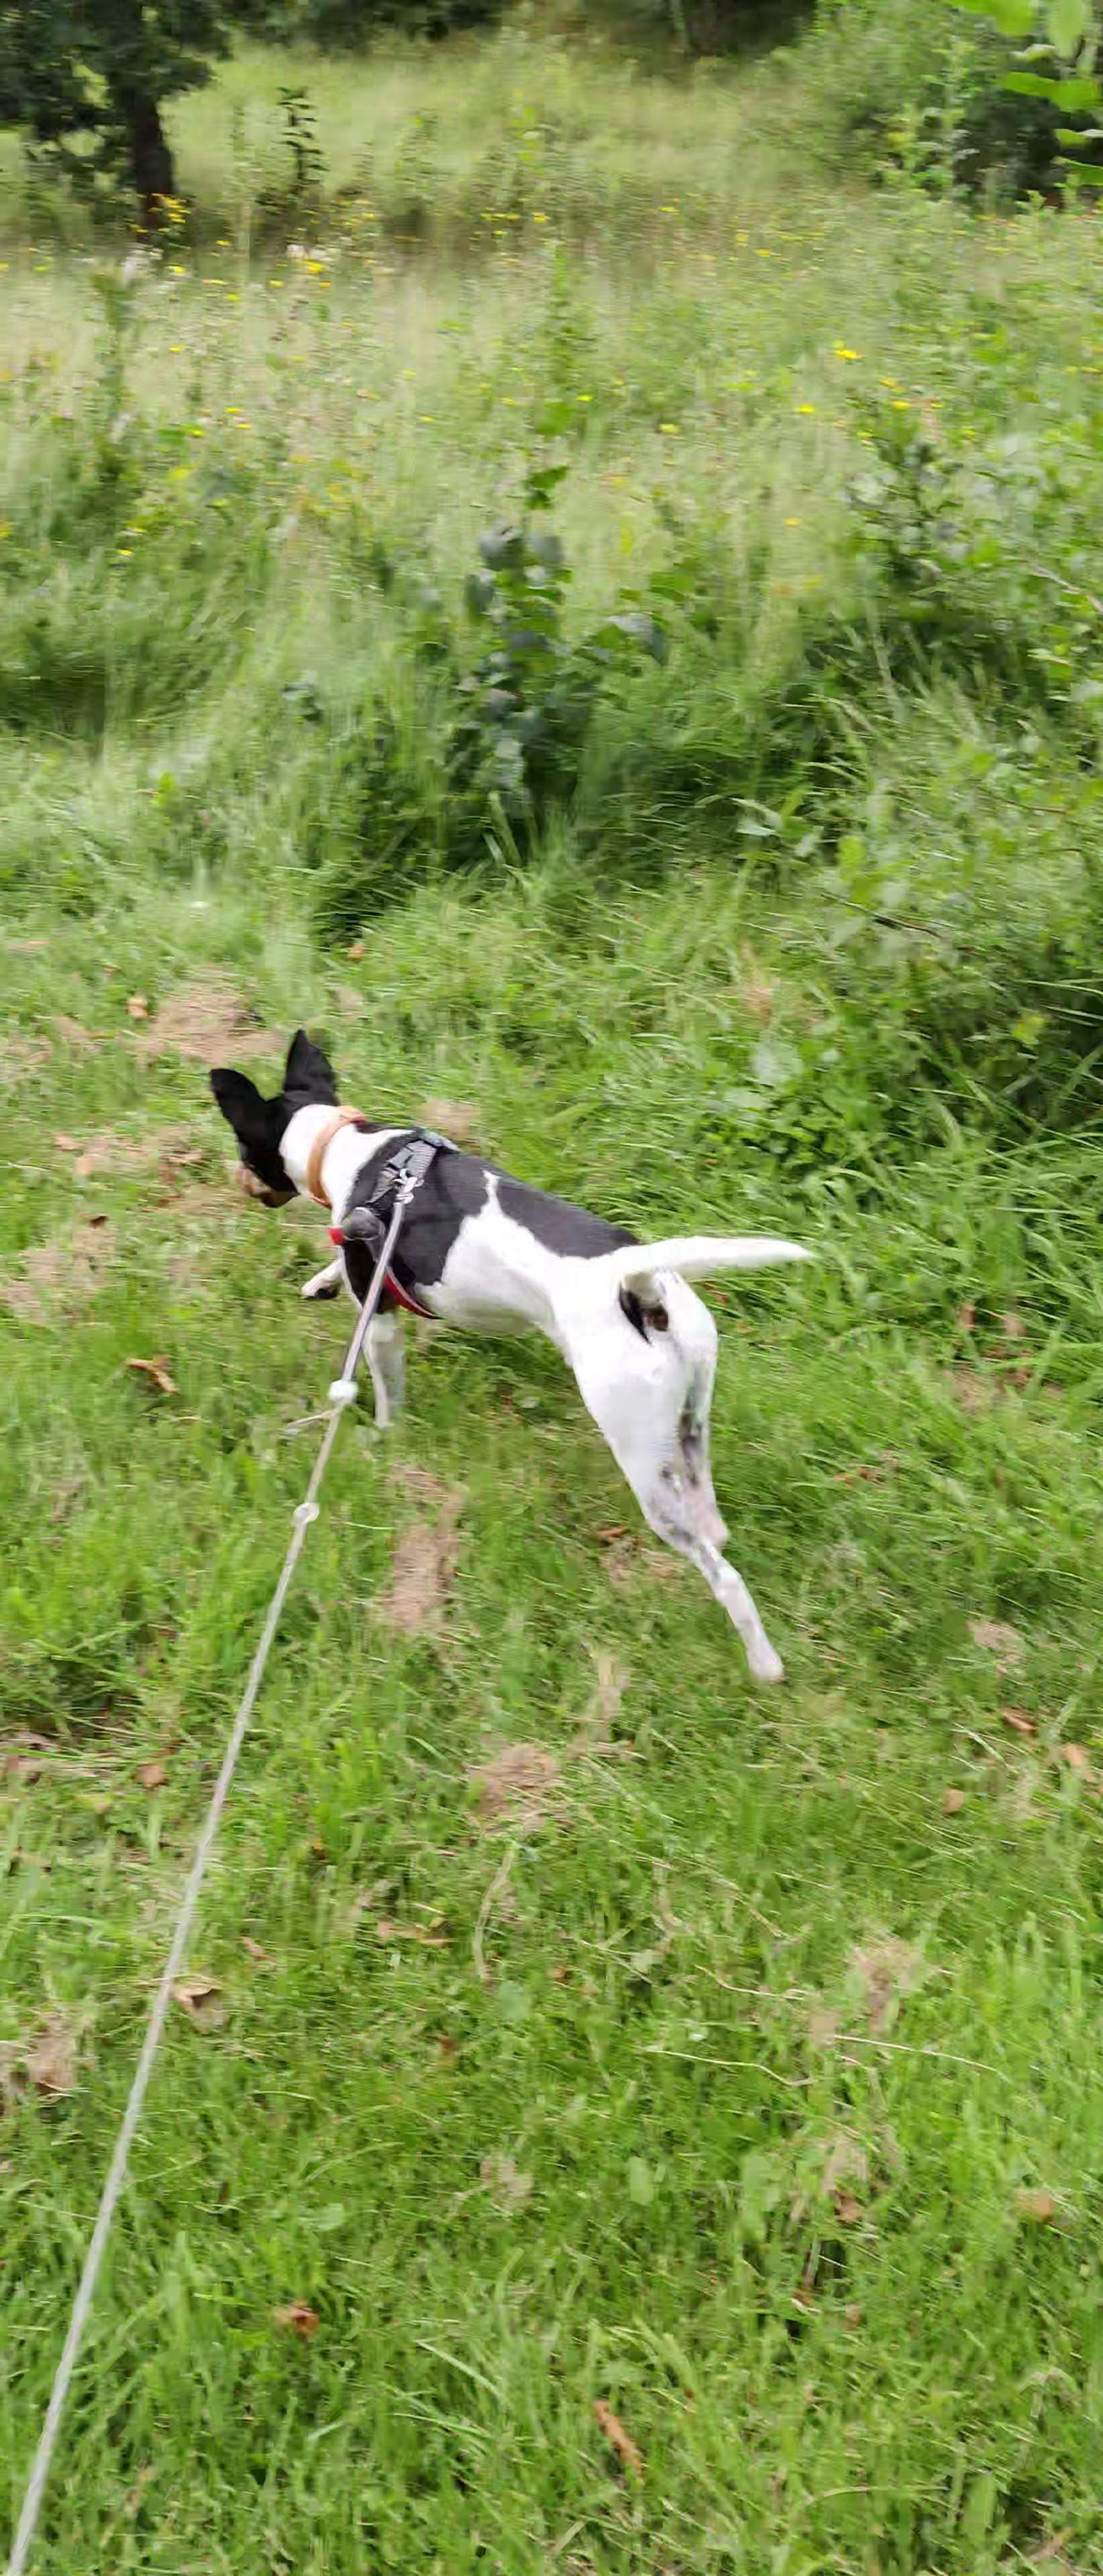Dog: (187, 992, 832, 1718)
